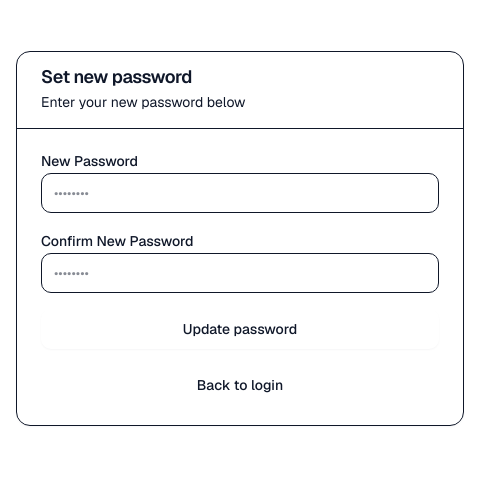
Scenario: ConfirmResetPasswordPage › should display error when update fails
Type "password123" into the password field labelled "New Password". click: (240, 192)
box: top-left (41, 172), bottom-right (439, 212)
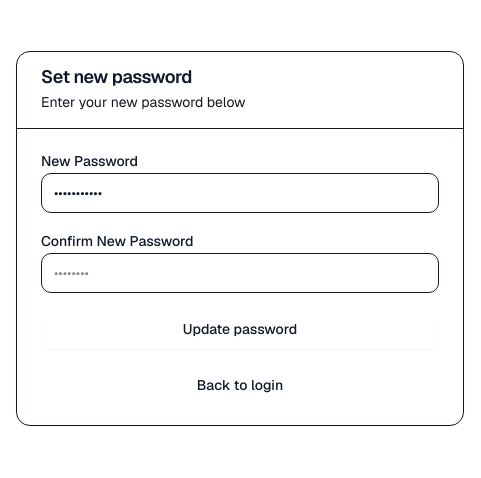
Type "password123" into the password field labelled "Confirm New Password". click: (240, 272)
box: top-left (41, 252), bottom-right (439, 292)
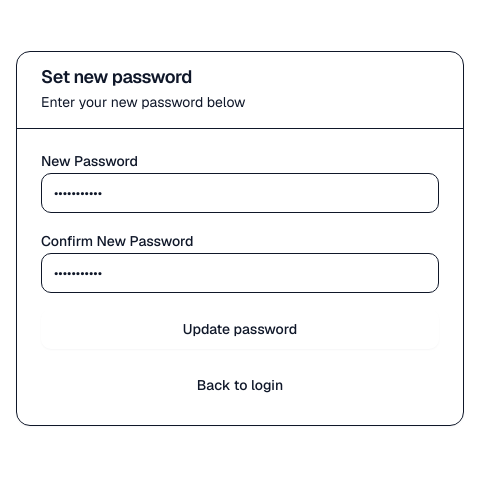
Submit the form from the button "Update password", box top-left (41, 308), bottom-right (439, 348)
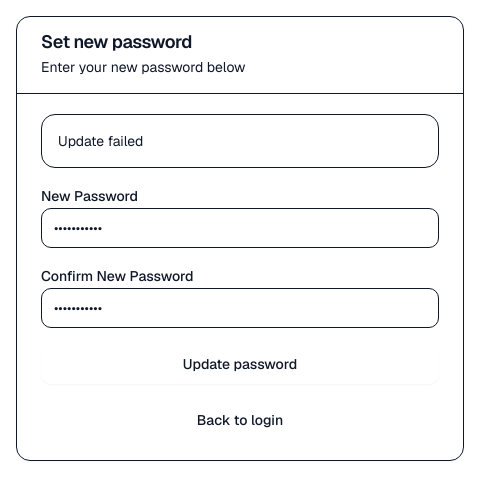
Now the text "Update failed" is shown, box top-left (58, 132), bottom-right (143, 150)
